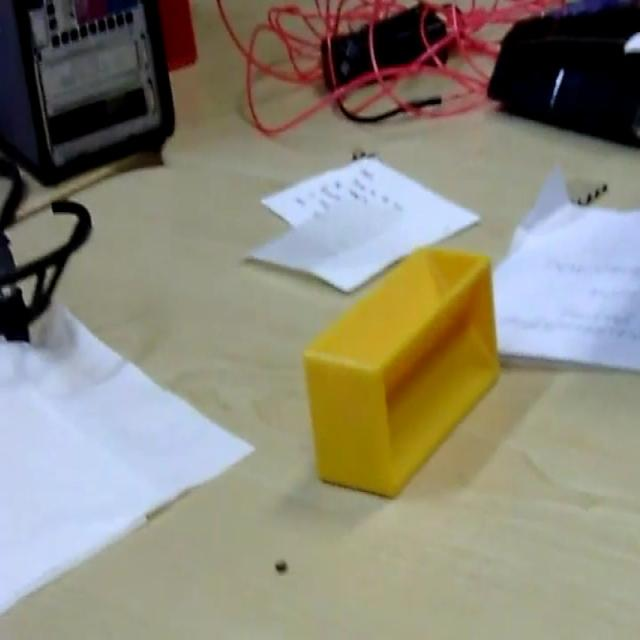yellow_block: (302, 245, 501, 499)
